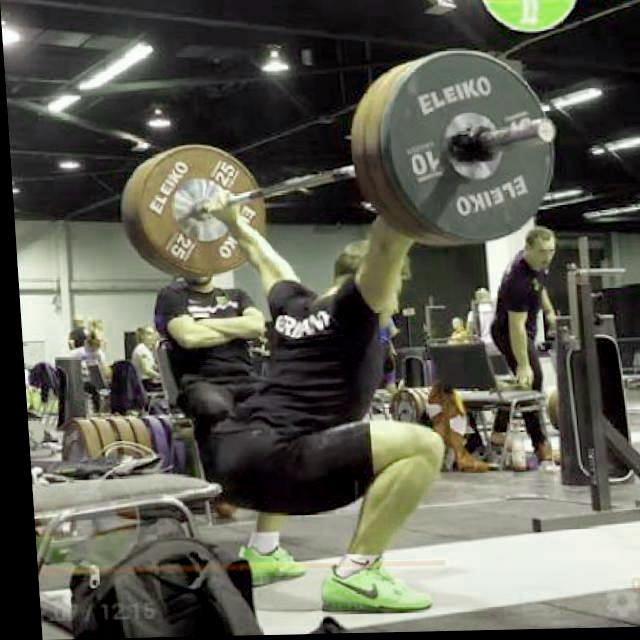barbell: (374, 48, 574, 253)
